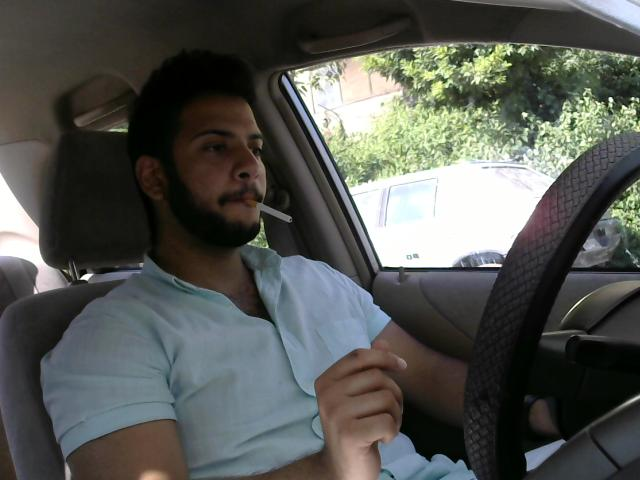Smoking: (239, 194, 297, 227)
